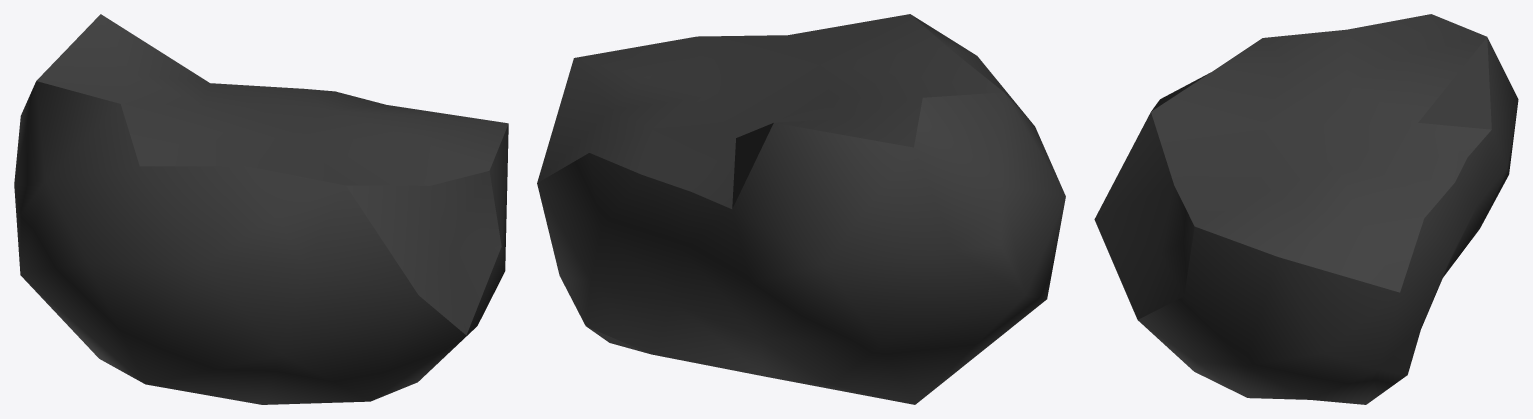
Rendered from rock3light.FBX.
The picture shows the model from 3 angles, left to right: view 1: azimuth 30°, elevation 25°; view 2: azimuth 150°, elevation 25°; view 3: azimuth 270°, elevation 25°; orthographic projection. The views are drawn at different scales.
Parts seen in each view (by area): view 1: default; view 2: default; view 3: default.
Part boxes in pixels (bbox=[...]): default: bbox=[14, 14, 508, 404]; default: bbox=[537, 14, 1065, 404]; default: bbox=[1094, 14, 1518, 404].
Size of the model in its own units: 0.0615 by 0.0392 by 0.0553.
Materials: 1 (1 with a texture image).
